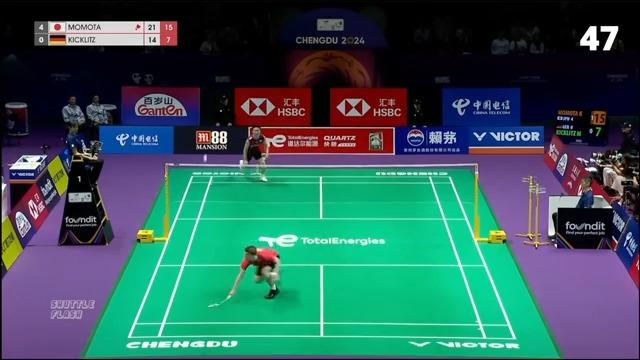Shuttlecock: (202, 152, 212, 166)
